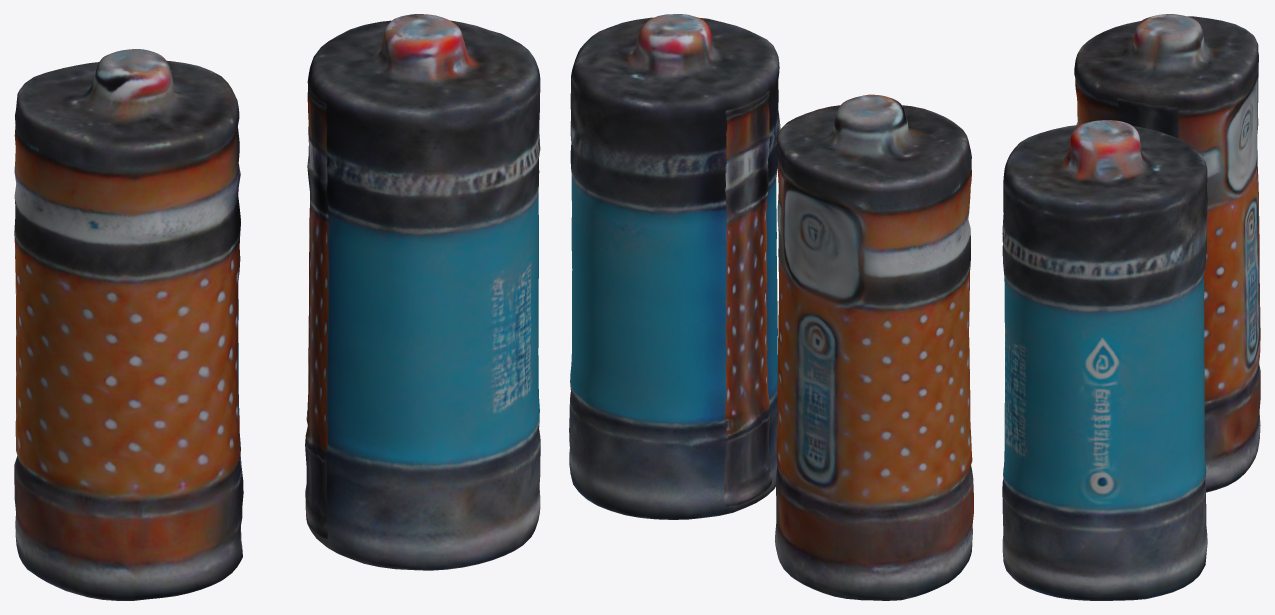
The model's file is 1c6b26f3d1d5_Adorable_Battery_mi.fbx.
The picture shows the model from 3 angles, left to right: view 1: azimuth 30°, elevation 25°; view 2: azimuth 150°, elevation 25°; view 3: azimuth 270°, elevation 25°; orthographic projection. The views are drawn at different scales.
Parts seen in each view (by area): view 1: mesh; view 2: mesh; view 3: mesh.
Boxes of the visible parts, x1,y1,x2,y2 form: mesh: (14, 14, 540, 600); mesh: (569, 14, 973, 600); mesh: (1002, 14, 1260, 600).
Size of the model in its own units: 93.29 by 99.94 by 53.1.
